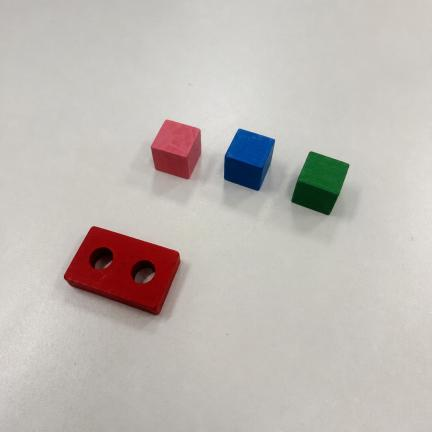BuildingBlocks: (65, 227, 180, 314), (292, 152, 348, 214), (225, 130, 275, 190), (152, 120, 201, 178)
